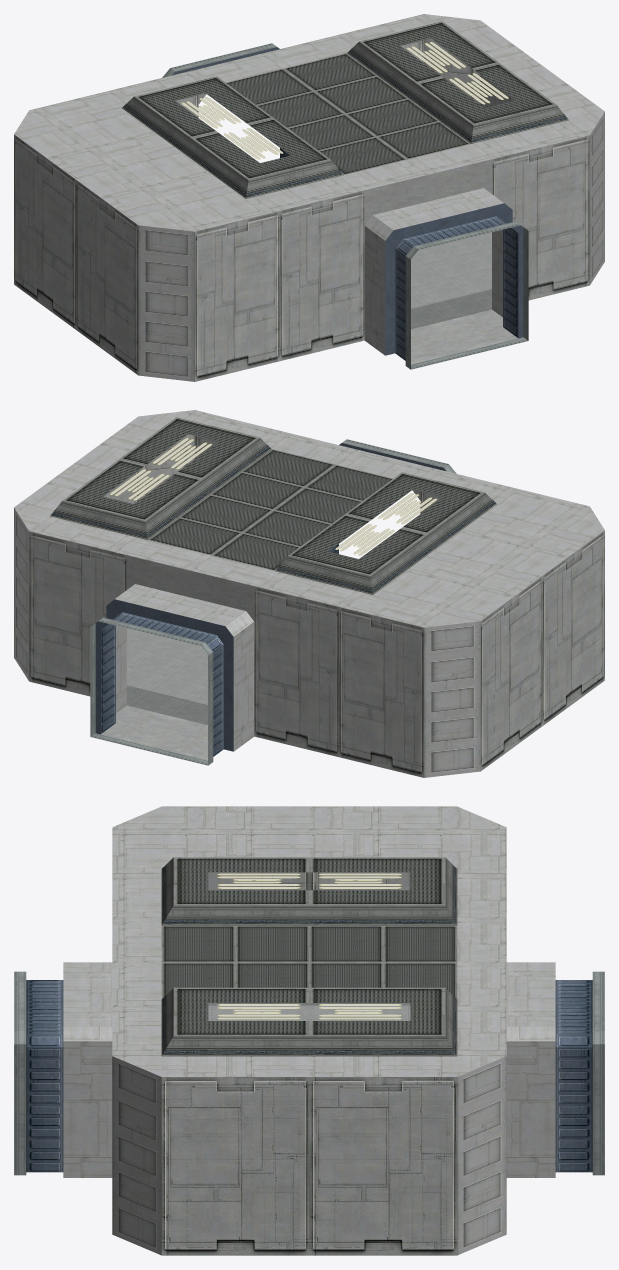
File: mun_all_military_base_police_station_impl_s01_r12_foyer2_mesh_r12.fbx
The picture shows the model from 3 angles, top to bottom: view 1: azimuth 30°, elevation 25°; view 2: azimuth 150°, elevation 25°; view 3: azimuth 270°, elevation 25°; orthographic projection. The views are drawn at different scales.
Parts seen in each view (by area): view 1: mesh_node; view 2: mesh_node; view 3: mesh_node.
Part boxes in pixels (x1,y1,x2,y2): mesh_node: [14, 14, 604, 381]; mesh_node: [14, 410, 604, 777]; mesh_node: [14, 806, 604, 1255].
Size of the model in its own units: 13 by 4.36 by 12.
